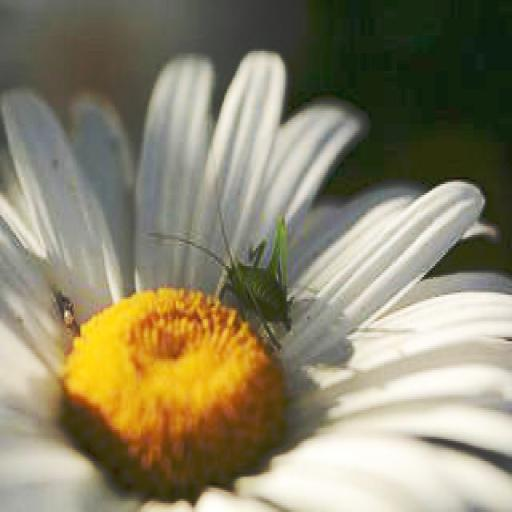daisy: (1, 32, 511, 512)
